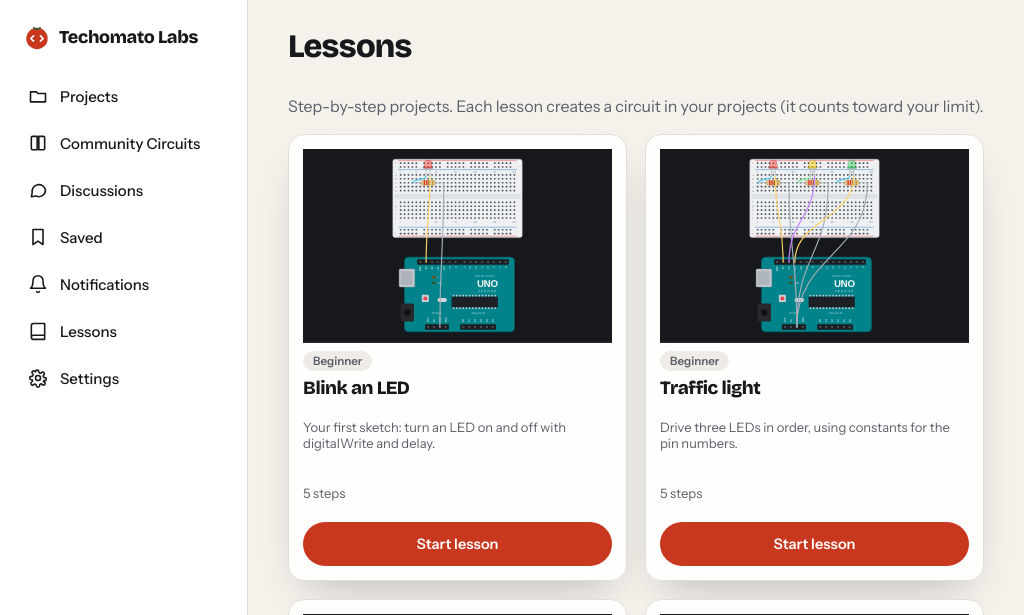
lessons › starting a lesson creates the circuit and opens the editor with the lesson beside it
Click the button "Start lesson" below "Blink an LED". click: (458, 544)
box: [303,522,612,566]
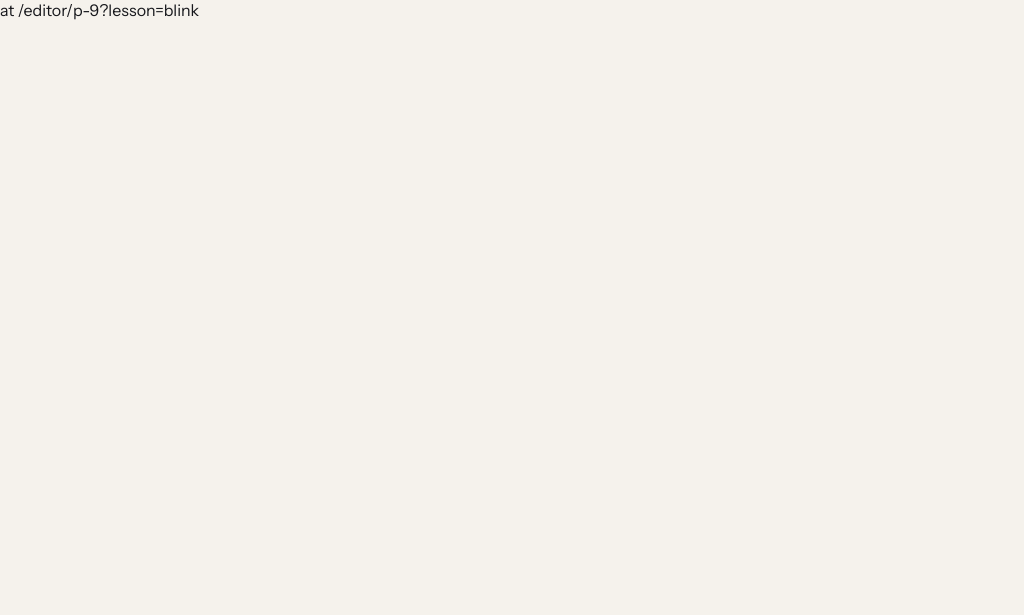
Now the text "at /editor/p-9?lesson=blink" is shown, box [0,0,199,20]
